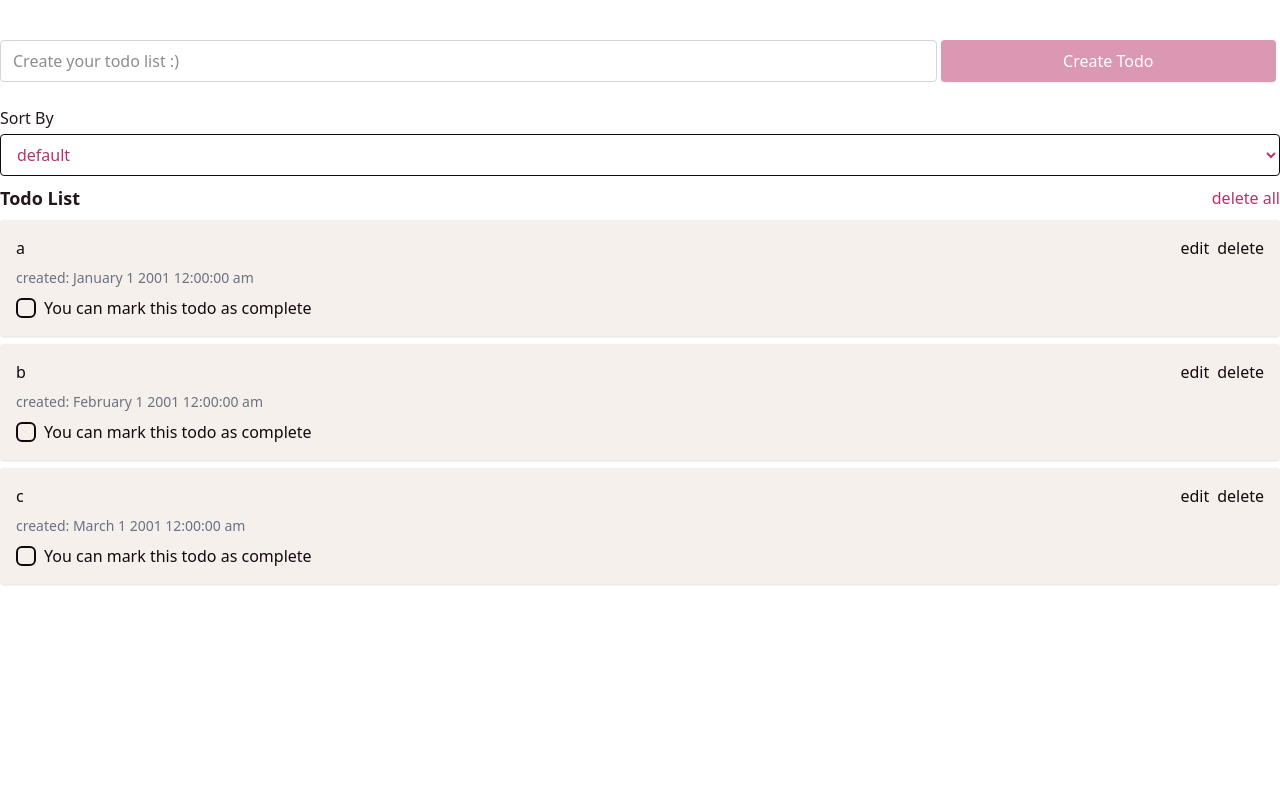
Todos component › shows alert if unauthenticated user tries to add more than 3 todos
The image size is (1280, 800).
Type "Test todo" into the field with placeholder "Create your todo list :)" at (468, 61), box [0,40,936,82]
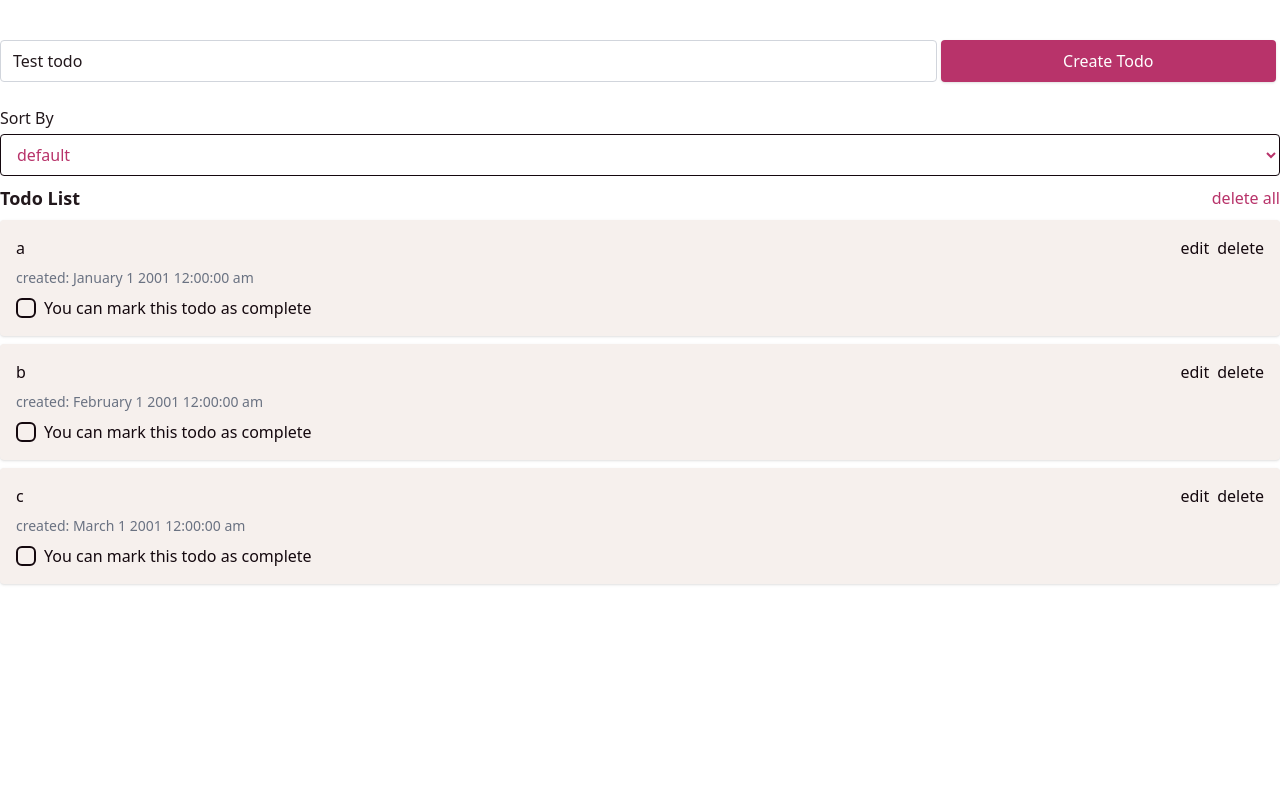
Click the button "Create Todo" at (1108, 61), box [940,40,1276,82]
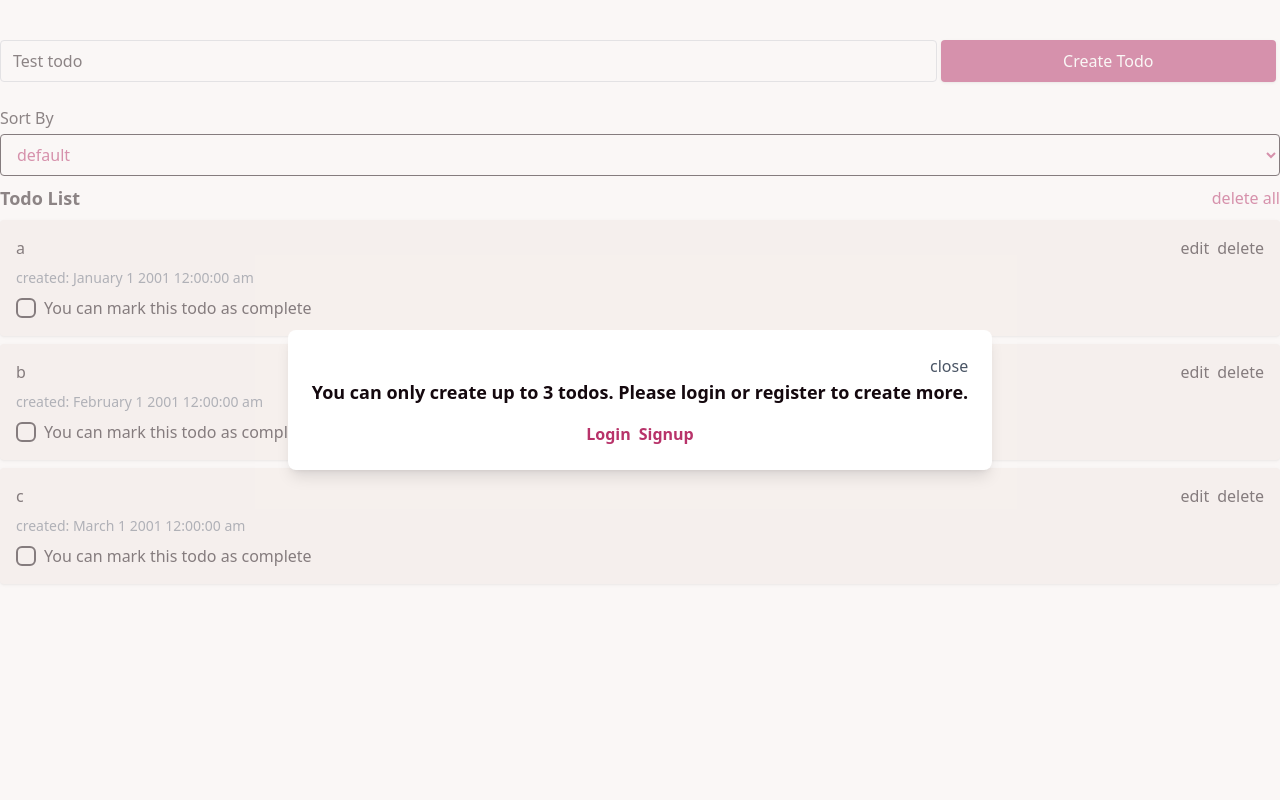
Now the text "You can only create up to 3 todos" is shown, box [312,380,968,404]
